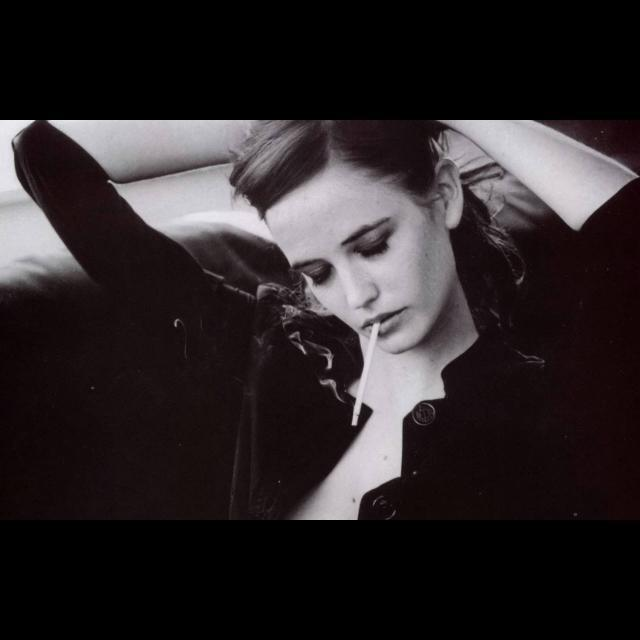rokok: (346, 317, 378, 428)
